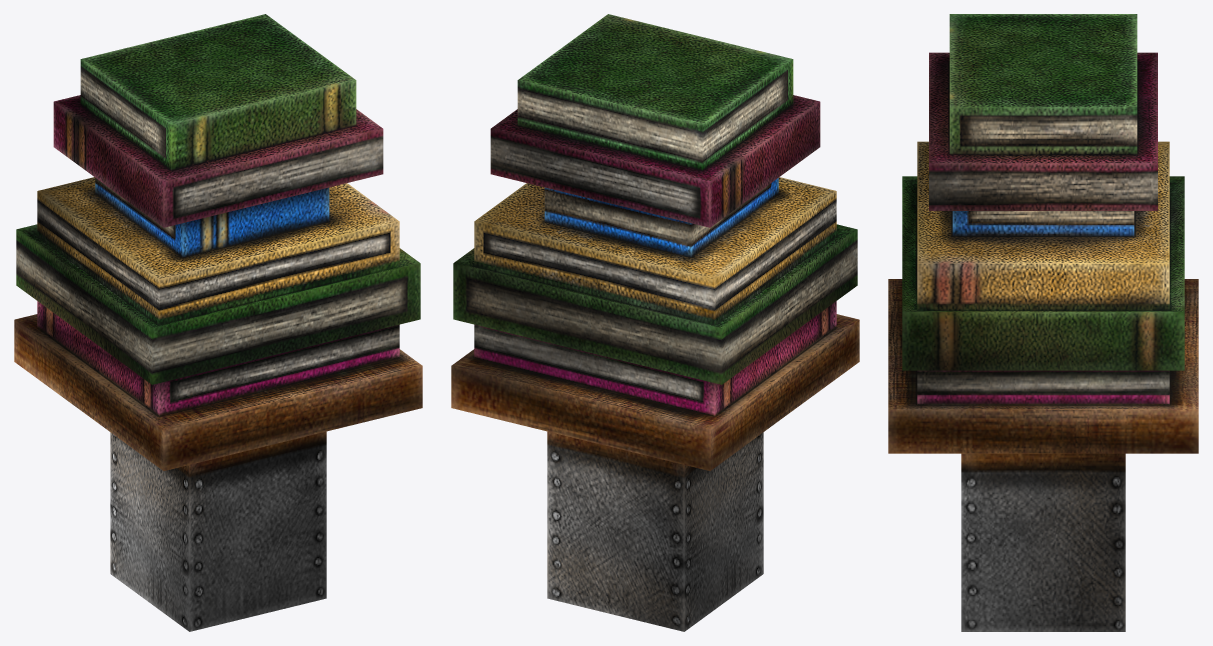
Rendered from HEAD_BOOKS.fbx.
3 renders of one model, left to right at view 1: azimuth 30°, elevation 25°; view 2: azimuth 150°, elevation 25°; view 3: azimuth 270°, elevation 25°, orthographic. The views are drawn at different scales.
Visible parts, largest first — view 1: HEAD_BOOKS; view 2: HEAD_BOOKS; view 3: HEAD_BOOKS.
Boxes of the visible parts, x1,y1,x2,y2 form: HEAD_BOOKS: (14,14,422,631); HEAD_BOOKS: (451,14,859,631); HEAD_BOOKS: (888,14,1198,631).
Bounding box in the file's own units: 0.00995 × 0.0183 × 0.00961.
